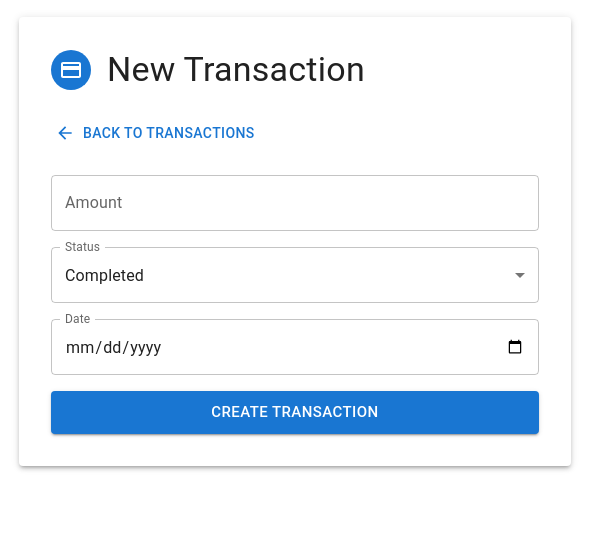
NewTransactionForm › validates form fields
Click the button "Create Transaction": (295, 413) [51,392,539,434]
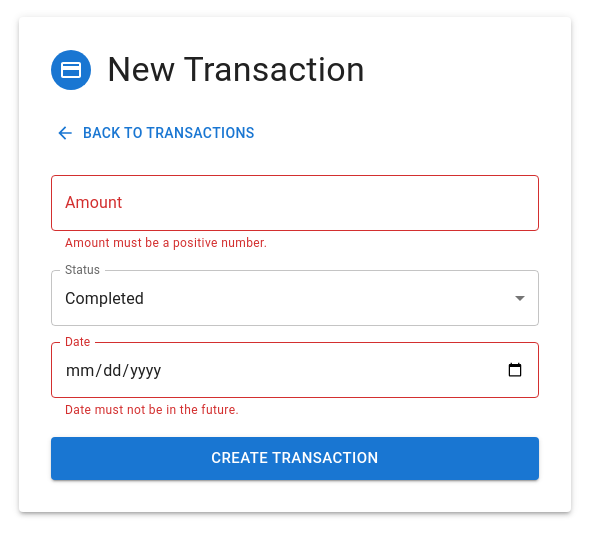
Check: the text "Amount must be a positive number." is shown, box [65,236,267,250]
Check: the text "Date must not be in the future." is shown, box [65,403,239,417]
